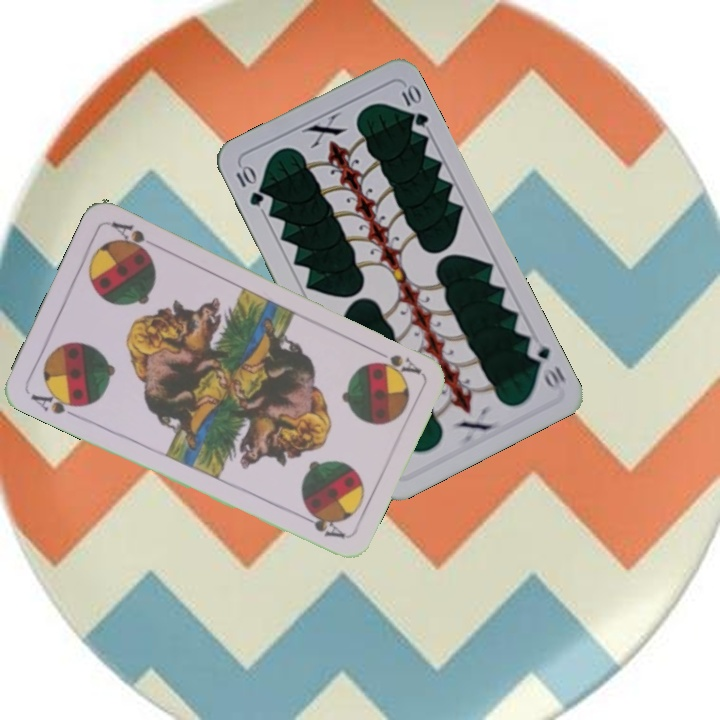G10: (523, 335, 568, 390), (232, 161, 266, 209)
SA: (26, 385, 86, 421), (367, 344, 424, 377)
